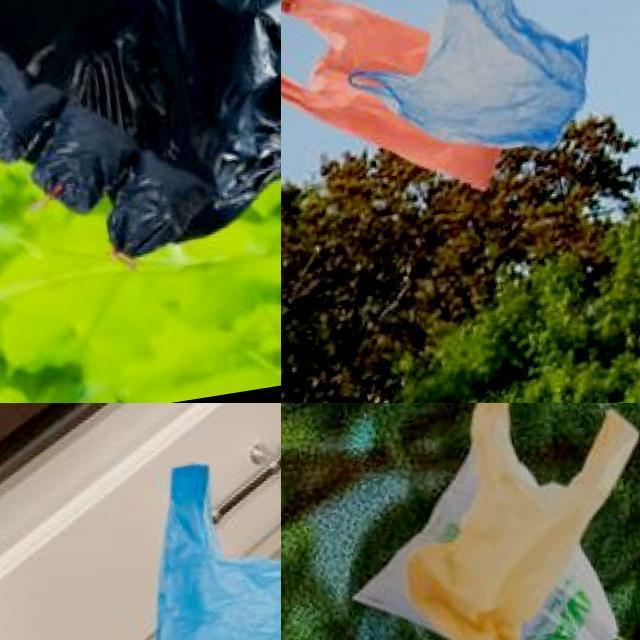waste: (0, 0, 281, 262), (393, 403, 640, 640), (355, 425, 620, 640), (281, 0, 508, 220), (332, 0, 598, 175), (103, 426, 281, 640), (31, 92, 145, 220), (102, 139, 222, 252), (0, 48, 71, 162)
